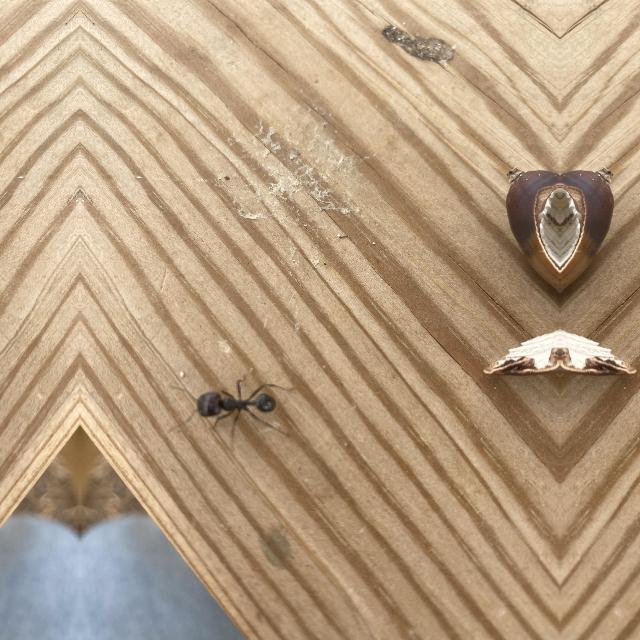Messor: (190, 373, 286, 435)
